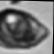correct: (0, 9, 51, 53)
